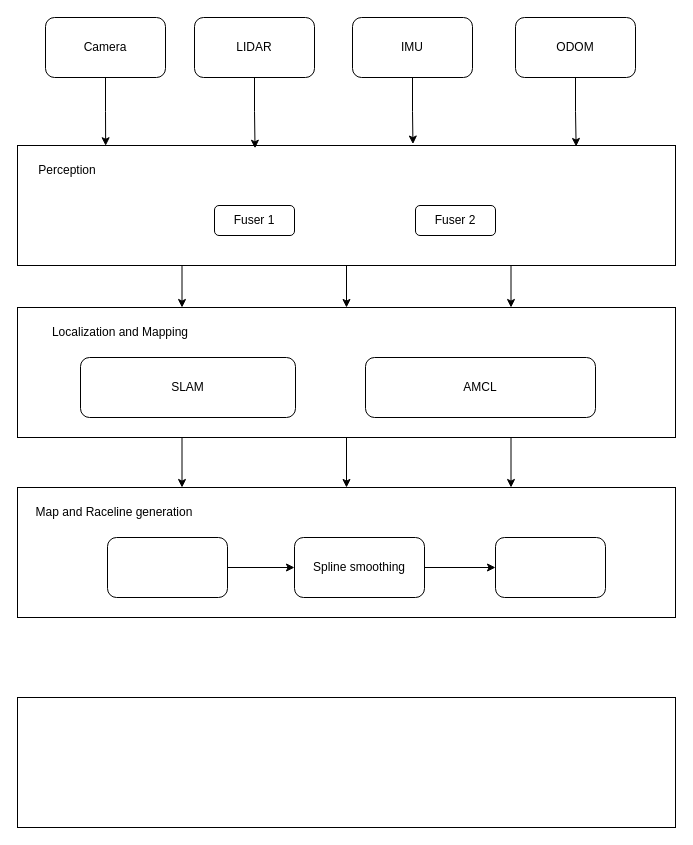
This 693x845 diagram has some shape labels left out. The centre of each missing label's shape, as x and y in pixels:
"Map midline generation" goes at pixel 167 567.
"Optimal racing line generation" goes at pixel 550 567.
"Vechile State Machine" goes at pixel 346 762.
